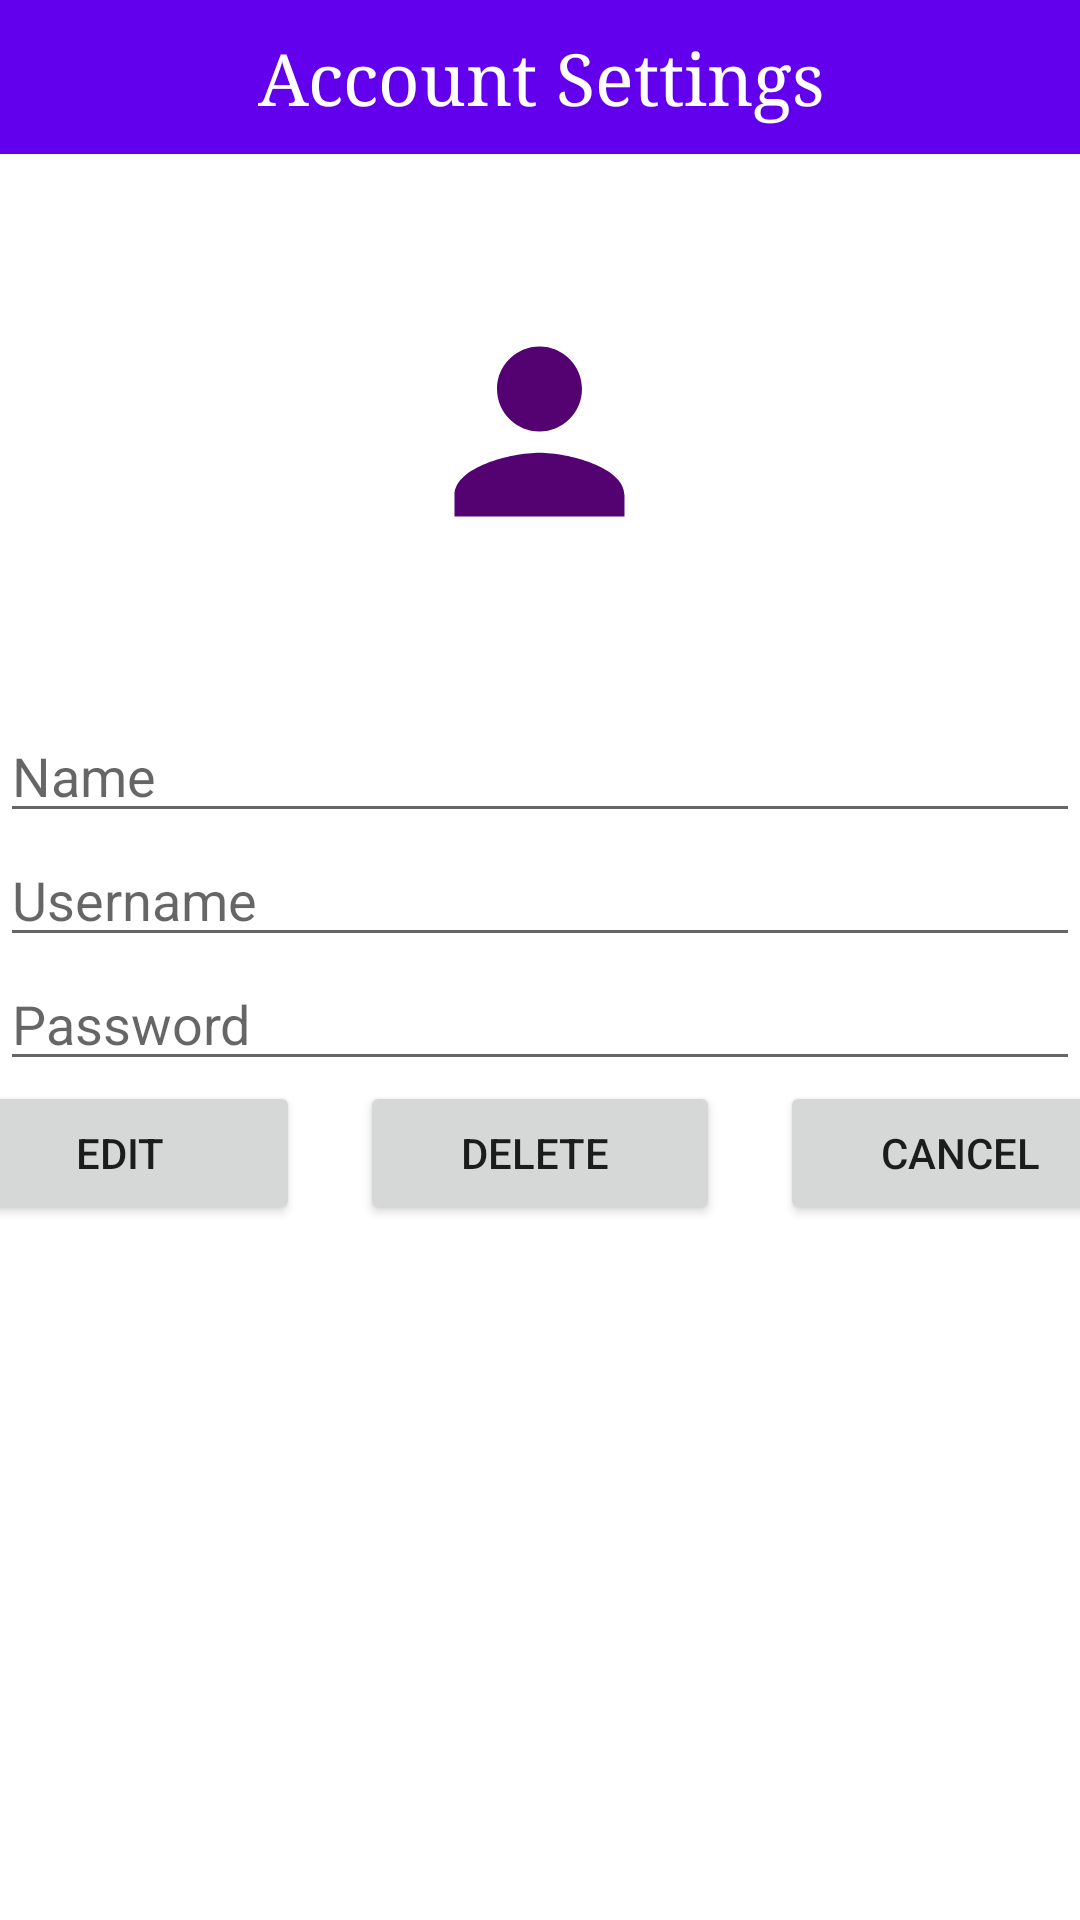

Icon bounding boxes for this 1080×1920 phone screenshot, format detection(x1, y1, x2, y2):
person: detection(454, 346, 625, 517)
